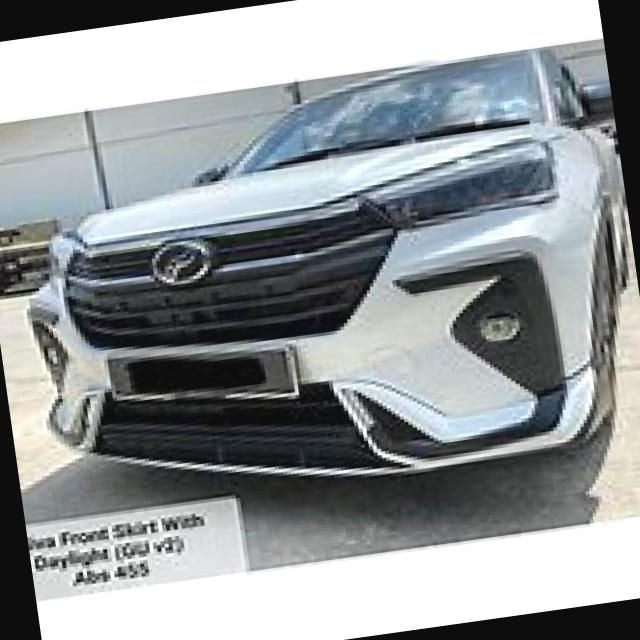PeroduaAtiva: (0, 32, 640, 550)
